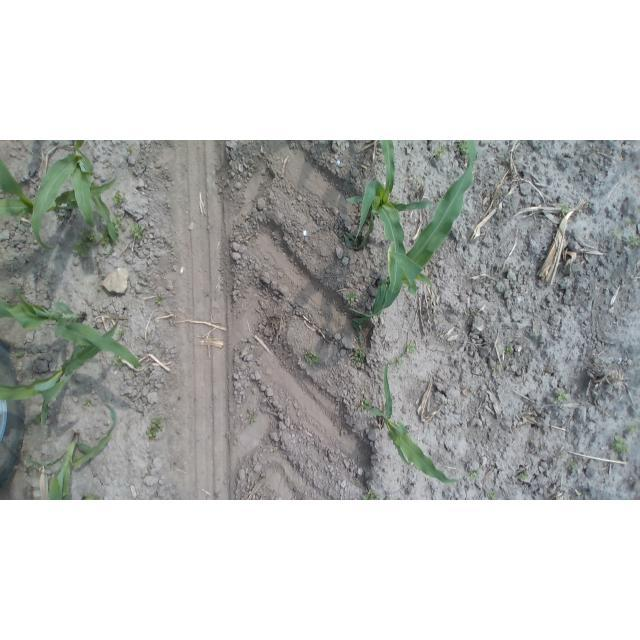Maize: (350, 140, 482, 345), (344, 140, 436, 321), (1, 317, 124, 427), (0, 284, 146, 374), (366, 363, 466, 490), (0, 403, 122, 500), (28, 140, 125, 256), (0, 152, 126, 219)
Weeds: (72, 228, 101, 261), (146, 416, 164, 441), (360, 488, 393, 500), (610, 434, 628, 456), (128, 224, 148, 241), (111, 213, 126, 235), (303, 349, 321, 366), (352, 347, 366, 365), (112, 191, 127, 206), (555, 388, 568, 405), (101, 227, 111, 248), (627, 234, 640, 250), (457, 141, 470, 156), (360, 399, 373, 414), (560, 203, 573, 218), (83, 492, 104, 501), (113, 354, 124, 371), (432, 145, 446, 158), (248, 411, 260, 426), (344, 290, 358, 302), (82, 396, 96, 408), (628, 422, 640, 436), (406, 342, 418, 355), (486, 488, 499, 500), (156, 293, 167, 307), (117, 330, 128, 343), (469, 468, 480, 481), (504, 343, 515, 355), (14, 348, 27, 358), (613, 229, 623, 240), (492, 361, 502, 372), (34, 412, 43, 424), (125, 144, 134, 155), (520, 469, 529, 480), (558, 451, 567, 461), (567, 459, 576, 469)
